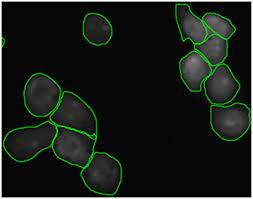cell: (50, 92, 98, 136), (3, 122, 56, 161), (52, 126, 96, 170), (81, 154, 121, 197), (24, 72, 60, 117), (211, 103, 251, 141), (203, 65, 241, 104), (175, 3, 209, 45), (181, 52, 211, 92), (195, 35, 229, 65), (203, 13, 236, 41), (84, 13, 111, 47)
